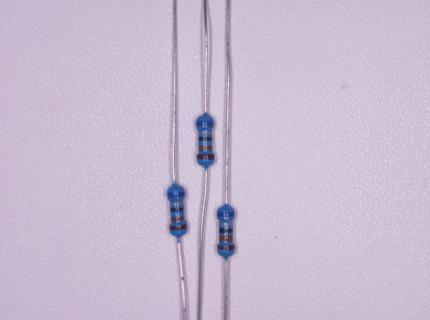Black band: (219, 228, 233, 233), (170, 208, 184, 212), (199, 137, 212, 141)
Blue band: (217, 211, 234, 217), (196, 120, 214, 125), (168, 192, 185, 197)
Brown band: (170, 223, 187, 230), (218, 244, 235, 251), (197, 154, 214, 160)
Grey band: (219, 222, 233, 227), (199, 131, 212, 135), (170, 202, 183, 206)
Orange band: (219, 235, 233, 242), (199, 146, 213, 151), (171, 216, 184, 221)
